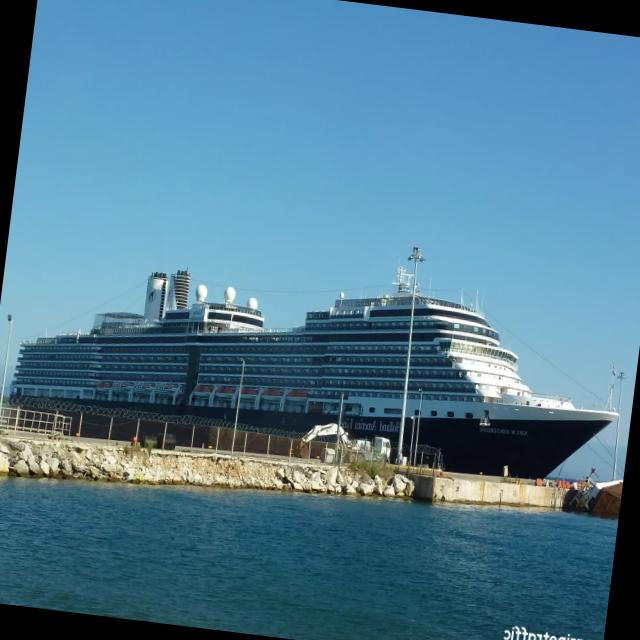Cruise: (10, 269, 411, 448), (402, 291, 615, 476)
